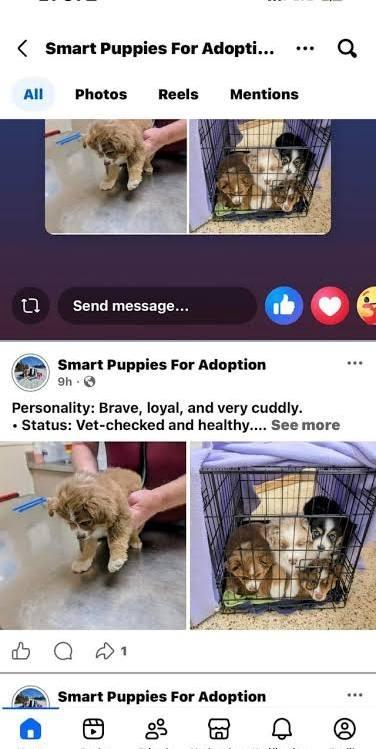puppy-dog: (47, 468, 145, 574), (298, 495, 353, 604), (82, 119, 155, 192), (260, 516, 311, 600), (222, 522, 274, 599), (276, 132, 315, 211), (247, 147, 288, 211), (215, 153, 255, 212)
